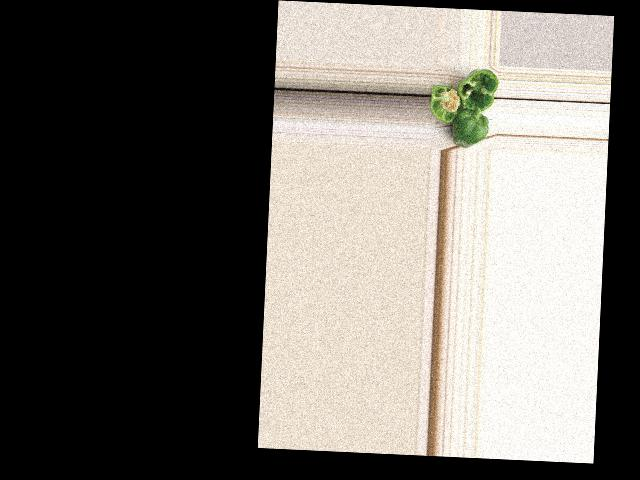bell_pepper: (429, 76, 464, 126)
